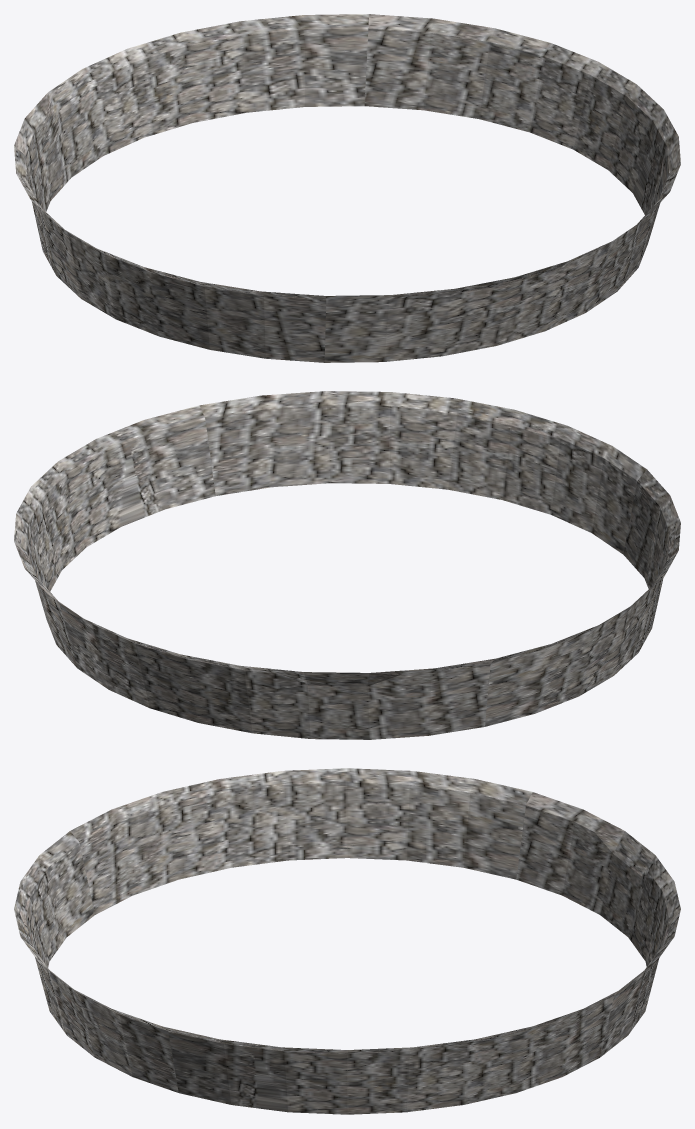
File: citywalls.dae
3 renders of one model, top to bottom at view 1: azimuth 30°, elevation 25°; view 2: azimuth 150°, elevation 25°; view 3: azimuth 270°, elevation 25°, orthographic.
Visible parts, largest first — view 1: Cylinder; view 2: Cylinder; view 3: Cylinder.
Boxes of the visible parts, left/top/right/bottom form: Cylinder: left=14, top=14, right=680, bottom=362; Cylinder: left=14, top=391, right=680, bottom=739; Cylinder: left=14, top=768, right=680, bottom=1114.
Bounding box in the file's own units: 4.78 × 4.78 × 0.622.
1 material, 1 textured.
